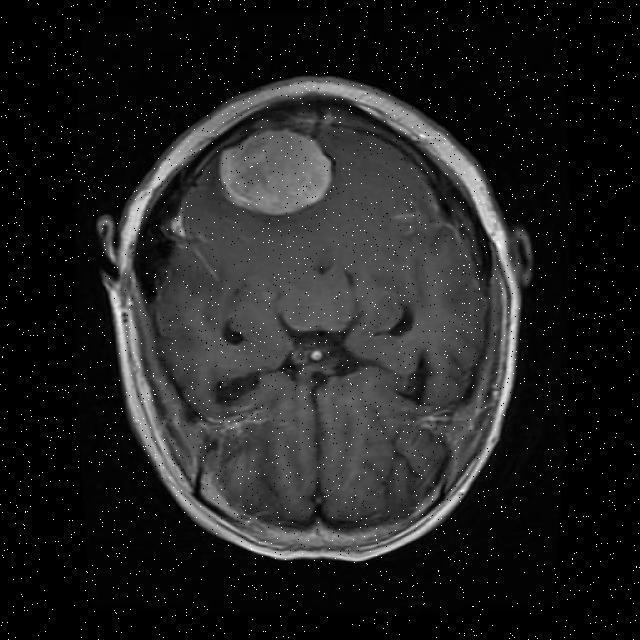Meningioma: (220, 129, 331, 214)
